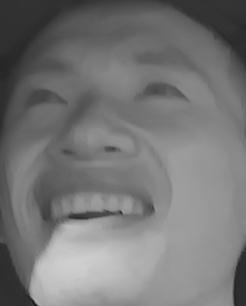eye: (129, 72, 193, 109), (14, 80, 73, 112)
mouth: (30, 172, 157, 235)
